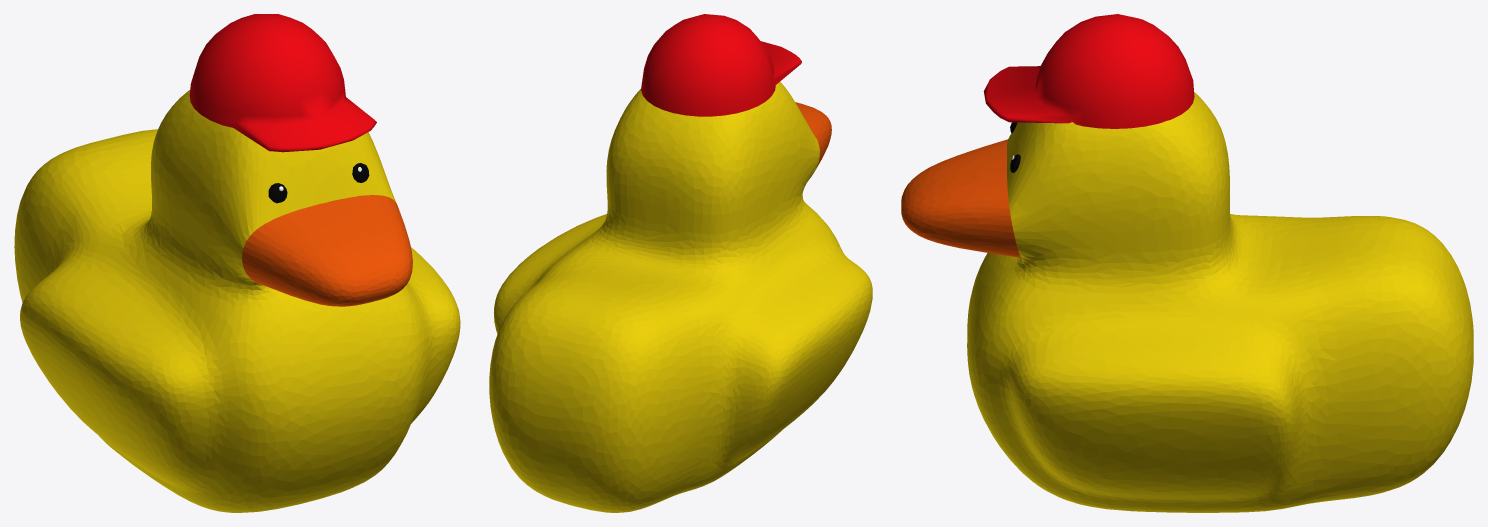
File: ahiru.fbx
3 renders of one model, left to right at view 1: azimuth 30°, elevation 25°; view 2: azimuth 150°, elevation 25°; view 3: azimuth 270°, elevation 25°, orthographic. The views are drawn at different scales.
Visible parts, largest first — view 1: 立方体.001; view 2: 立方体.001; view 3: 立方体.001.
Part boxes in pixels (x1=…): 立方体.001: x1=14, y1=14, x2=460, y2=512; 立方体.001: x1=489, y1=14, x2=872, y2=512; 立方体.001: x1=901, y1=14, x2=1473, y2=512.
Size of the model in its own units: 310 by 407 by 456.
